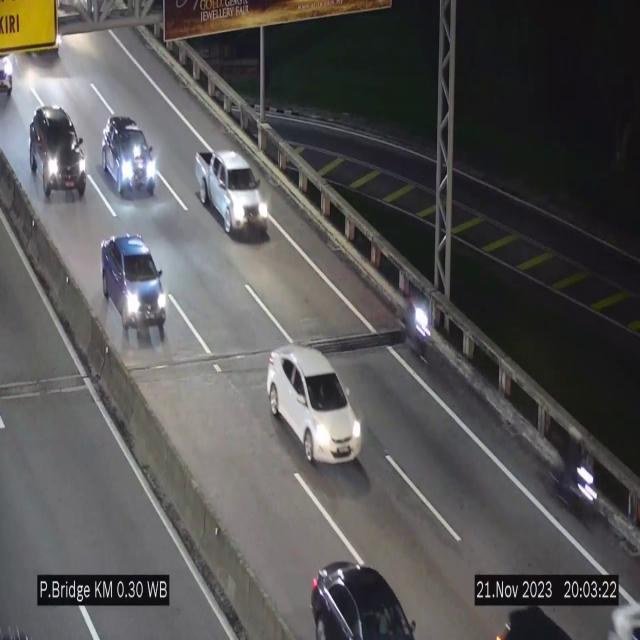Car: (300, 528, 420, 640), (265, 341, 364, 472), (193, 145, 270, 243), (99, 231, 168, 337), (28, 103, 90, 203), (100, 114, 157, 199)
Motorcycle: (549, 422, 599, 524), (403, 276, 435, 370)
